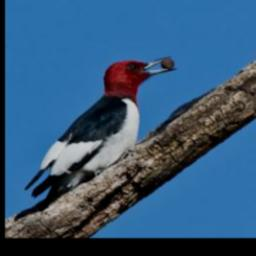Woodpecker: (23, 52, 180, 203)
